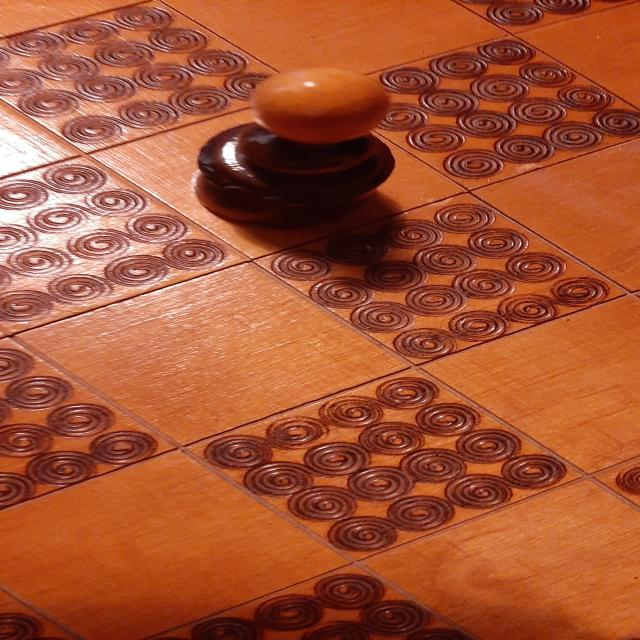black-bishop: (193, 66, 399, 230)
